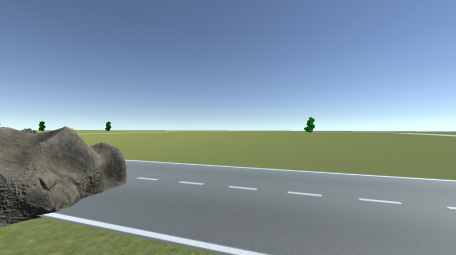rock: (1, 126, 135, 221)
tree: (304, 116, 317, 135)
